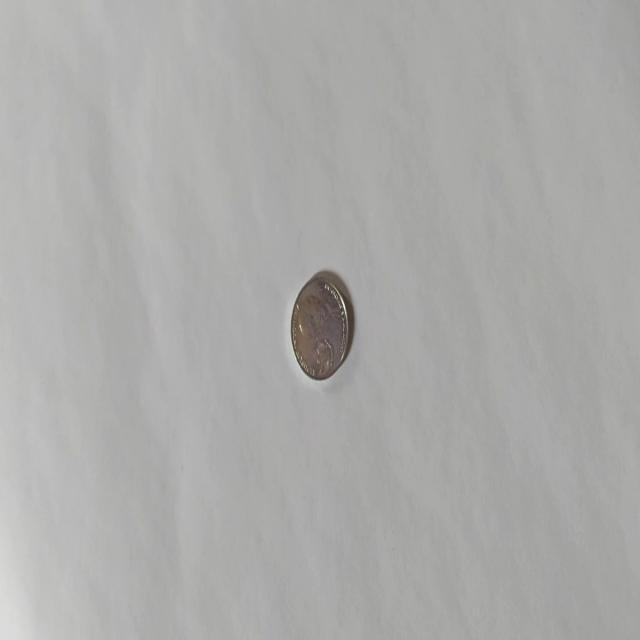lima ratus rupiah: (290, 270, 350, 382)
